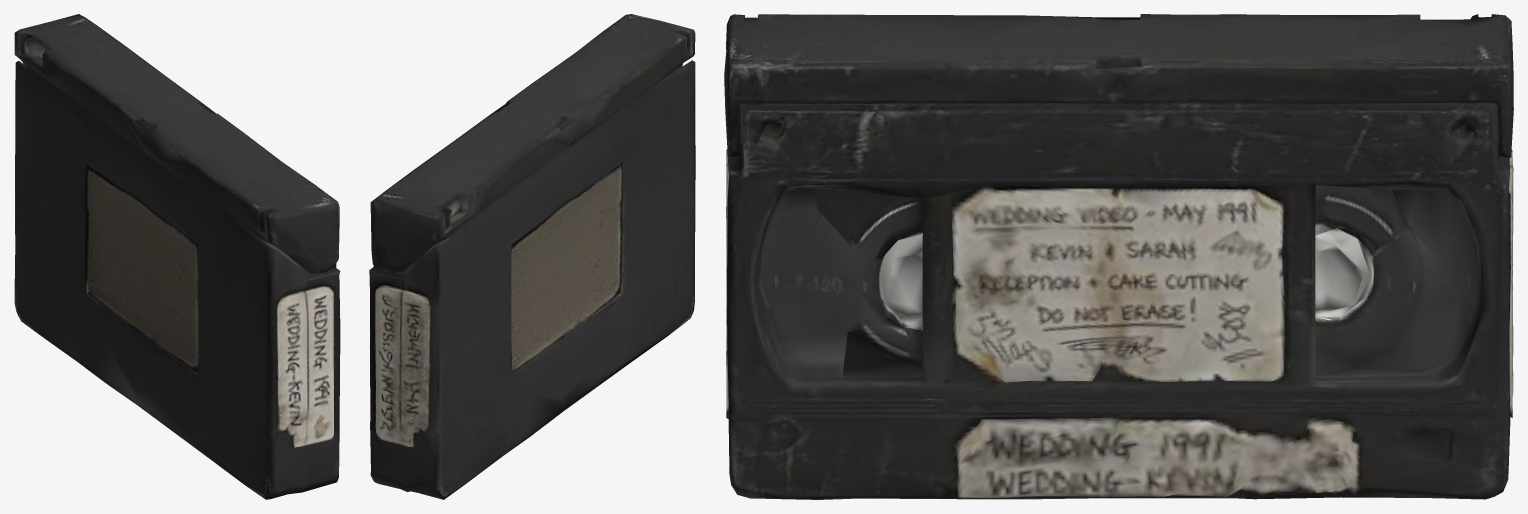
The model's file is cinta.glb.
3 views of the same model, side by side, from view 1: azimuth 30°, elevation 25°; view 2: azimuth 150°, elevation 25°; view 3: azimuth 270°, elevation 25° (orthographic). The views are drawn at different scales.
Parts seen in each view (by area): view 1: tripo_node_46aeefa8-dca8-4ad4-88ca-a9fc0f41213c; view 2: tripo_node_46aeefa8-dca8-4ad4-88ca-a9fc0f41213c; view 3: tripo_node_46aeefa8-dca8-4ad4-88ca-a9fc0f41213c.
Part boxes in pixels (left/top/right/bottom): tripo_node_46aeefa8-dca8-4ad4-88ca-a9fc0f41213c: left=14, top=14, right=340, bottom=499; tripo_node_46aeefa8-dca8-4ad4-88ca-a9fc0f41213c: left=369, top=14, right=695, bottom=499; tripo_node_46aeefa8-dca8-4ad4-88ca-a9fc0f41213c: left=724, top=14, right=1513, bottom=499.
Bounding box in the file's own units: 0.1669 × 0.6135 × 1.
Materials: 1 (1 with a texture image).
